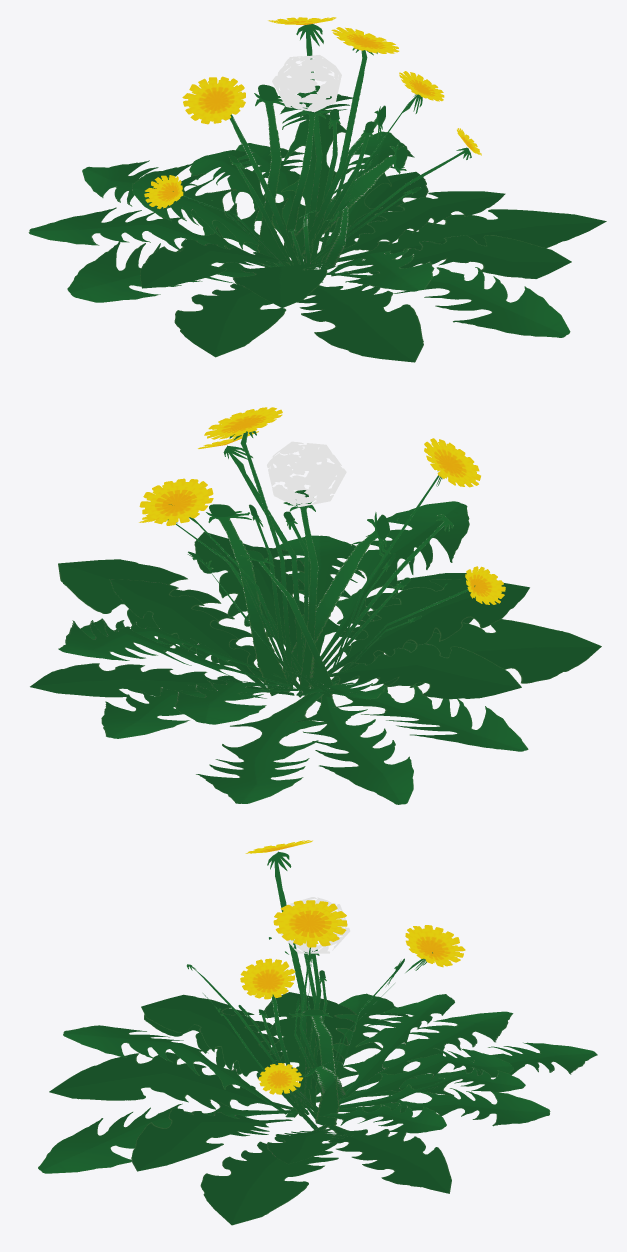
File: PT_Dandelion_01.fbx
The picture shows the model from 3 angles, top to bottom: view 1: azimuth 30°, elevation 25°; view 2: azimuth 150°, elevation 25°; view 3: azimuth 270°, elevation 25°; orthographic projection. The views are drawn at different scales.
Visible parts, largest first — view 1: PT_Dandelion_01_LOD0; view 2: PT_Dandelion_01_LOD0; view 3: PT_Dandelion_01_LOD0.
Part boxes in pixels (<box>): PT_Dandelion_01_LOD0: <box>28,17,606,362</box>; PT_Dandelion_01_LOD0: <box>30,407,601,804</box>; PT_Dandelion_01_LOD0: <box>38,840,597,1225</box>.
Size of what is drawn, in the model's own units: 92.73 by 42.88 by 94.96.
